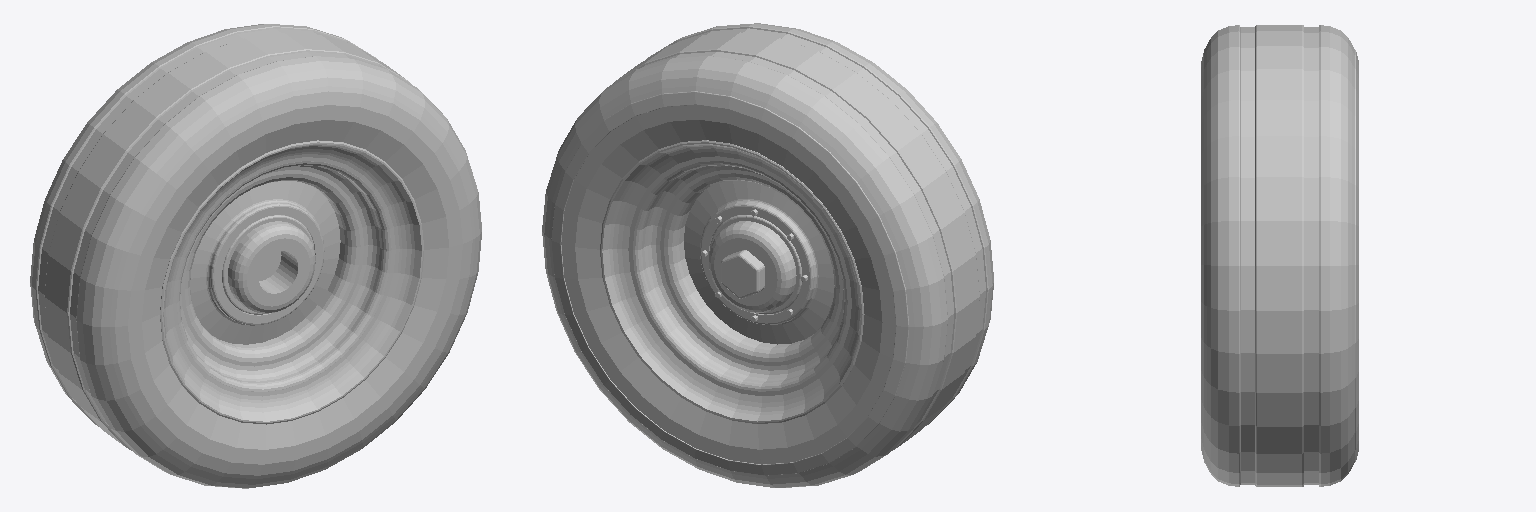
Rendered from Tire.obj.
3 views of the same model, side by side, from view 1: azimuth 30°, elevation 25°; view 2: azimuth 150°, elevation 25°; view 3: azimuth 270°, elevation 25° (orthographic).
Visible parts, largest first — view 1: Cylinder.003_Cylinder.016_Cylinder.003_Cylinder.016; view 2: Cylinder.003_Cylinder.016_Cylinder.003_Cylinder.016; view 3: Cylinder.003_Cylinder.016_Cylinder.003_Cylinder.016.
Part boxes in pixels (x1,y1,x2,y2): Cylinder.003_Cylinder.016_Cylinder.003_Cylinder.016: (30,24,481,488); Cylinder.003_Cylinder.016_Cylinder.003_Cylinder.016: (542,23,993,487); Cylinder.003_Cylinder.016_Cylinder.003_Cylinder.016: (1201,25,1358,486).
Bounding box in the file's own units: 0.6266 × 0.6266 × 0.2141.